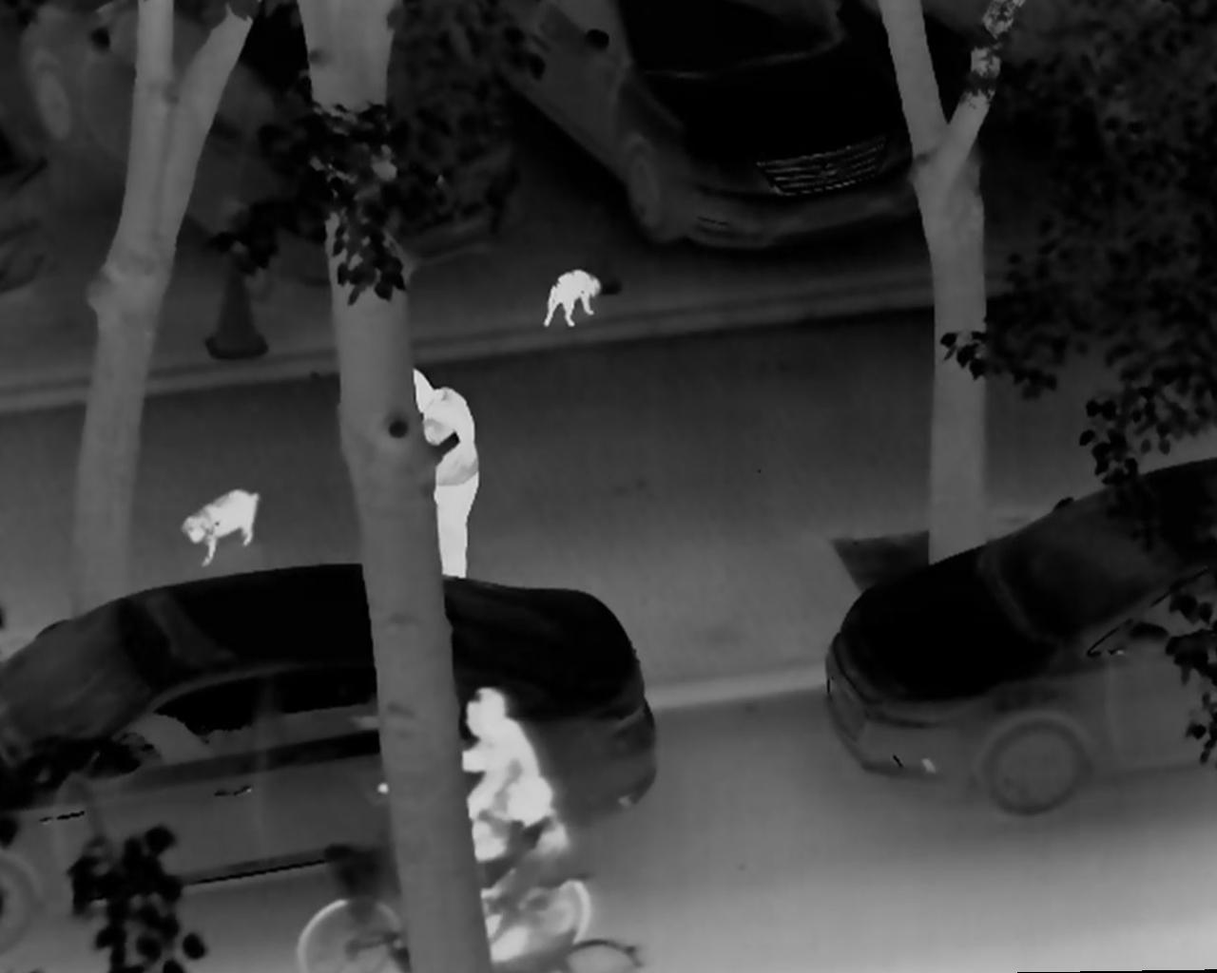person: (374, 676, 544, 868), (442, 773, 578, 973), (397, 363, 481, 586)
